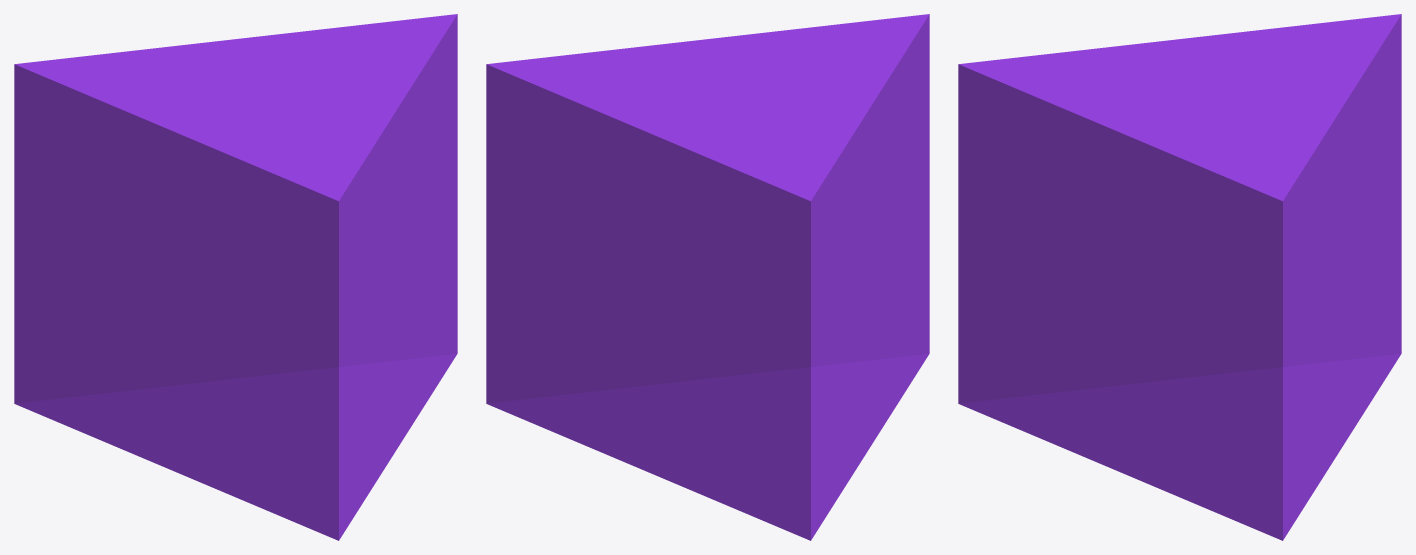
3 renders of one model, left to right at view 1: azimuth 30°, elevation 25°; view 2: azimuth 150°, elevation 25°; view 3: azimuth 270°, elevation 25°, orthographic.
Visible parts, largest first — view 1: root; view 2: root; view 3: root.
Part boxes in pixels (bbox=[...]): root: bbox=[14, 14, 457, 540]; root: bbox=[486, 14, 929, 540]; root: bbox=[958, 14, 1401, 540].
Bounding box in the file's own units: 4.73 × 4 × 4.73.
